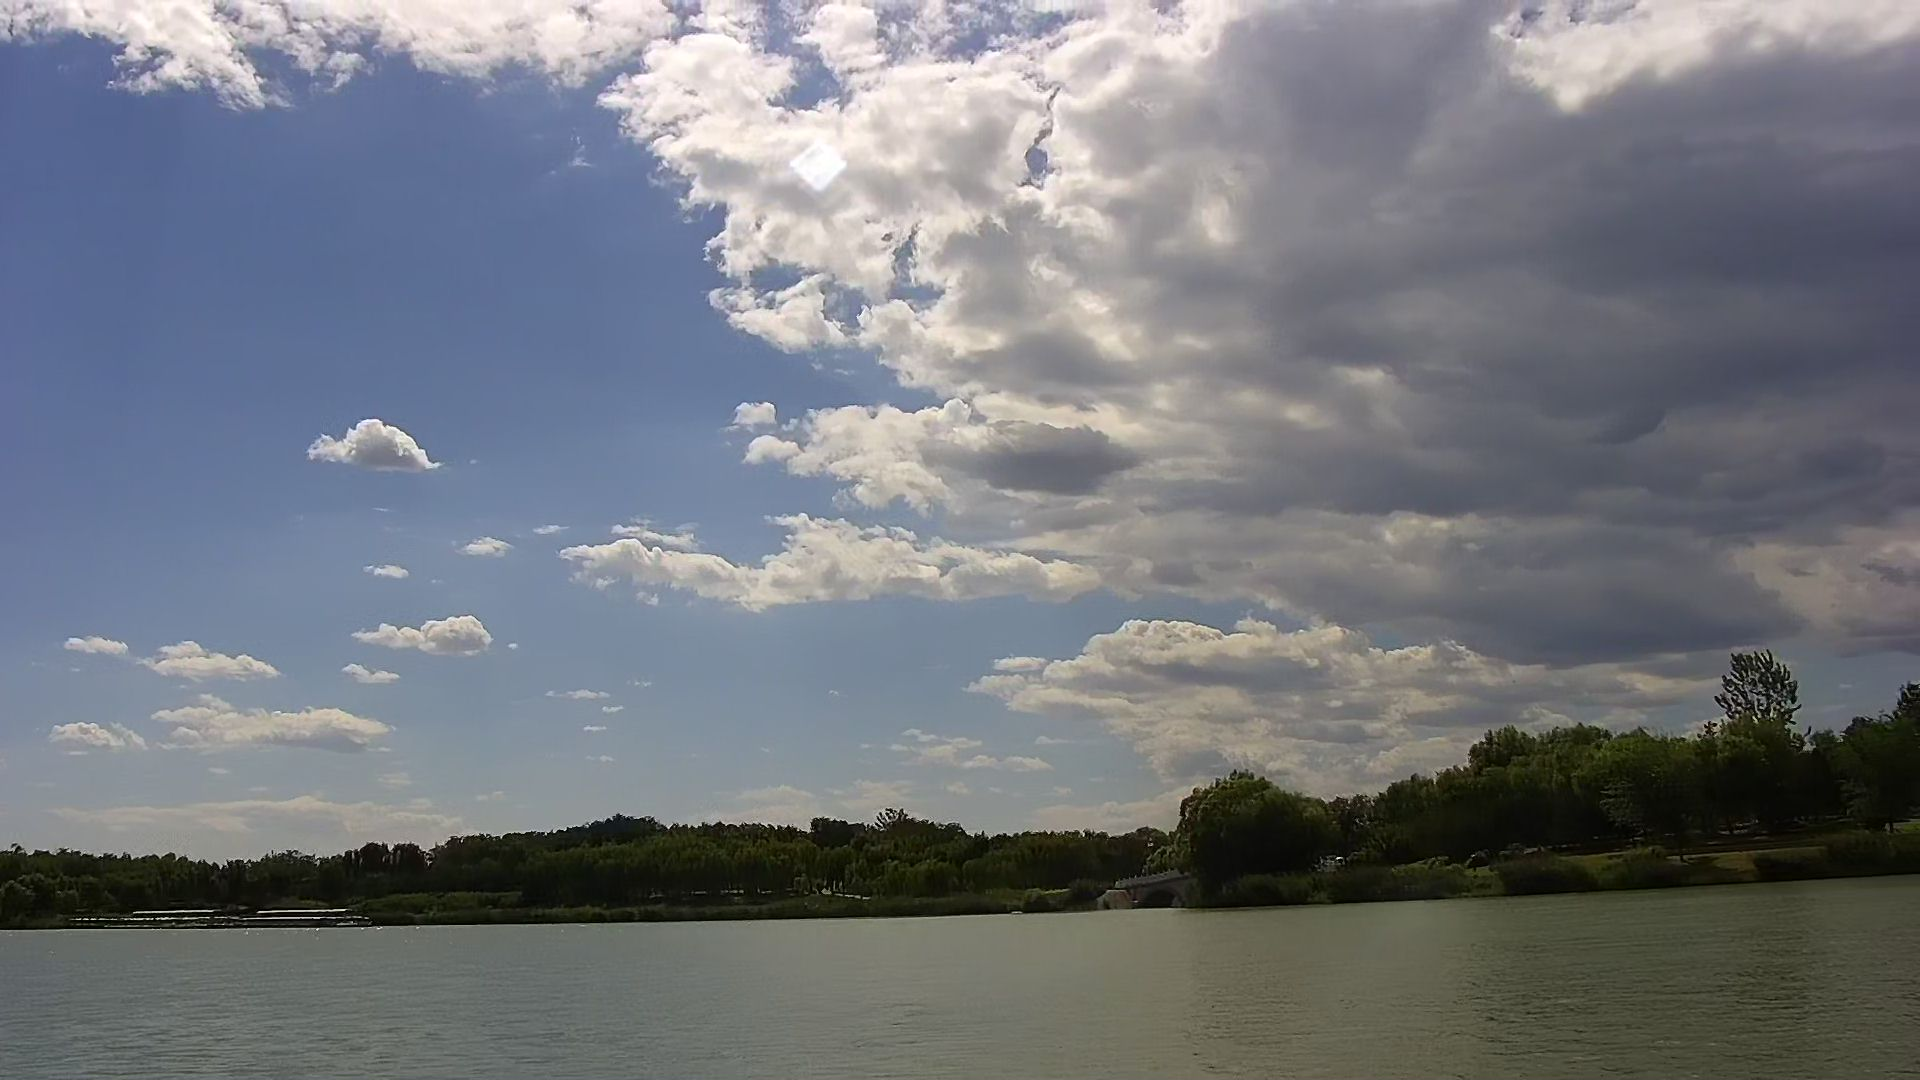harbor: (76, 903, 363, 928)
